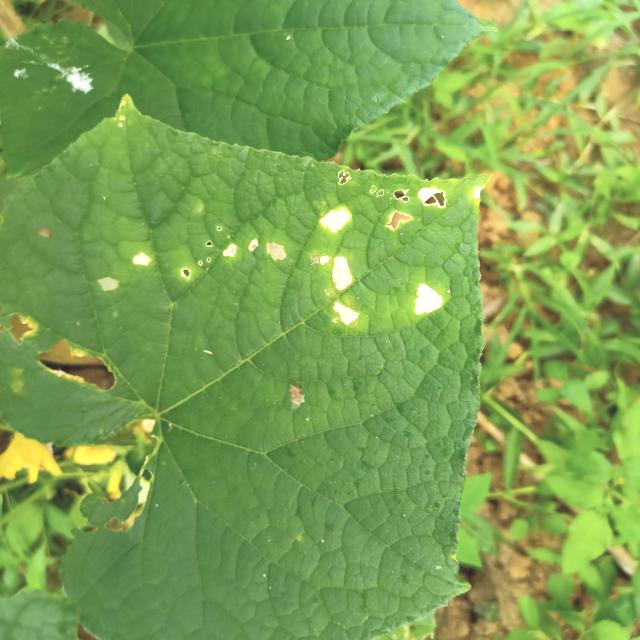disease_cucumber: (263, 172, 478, 346), (72, 198, 260, 315)
